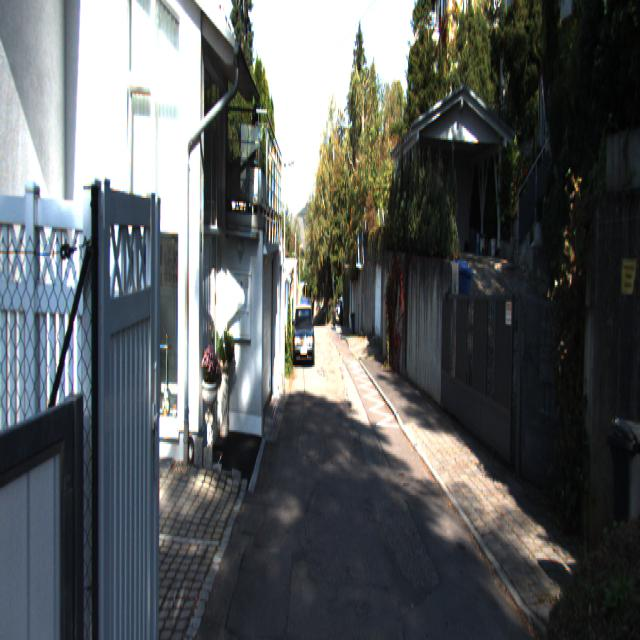Car: (292, 303, 314, 368)
